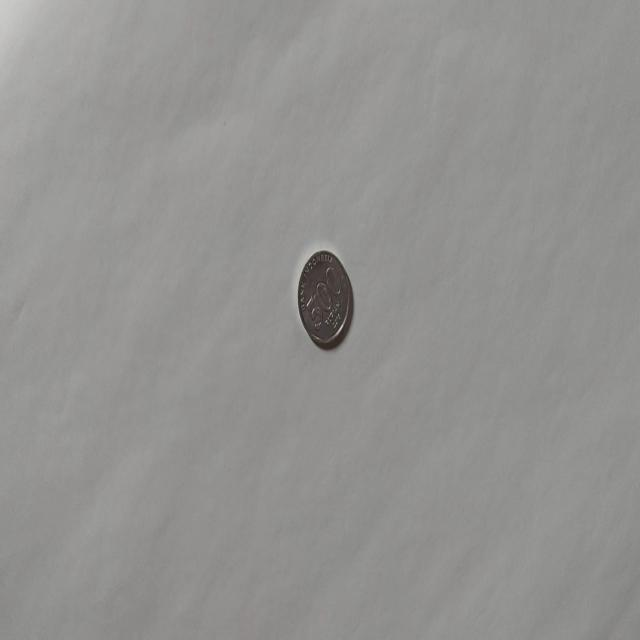lima ratus rupiah: (296, 248, 352, 348)
